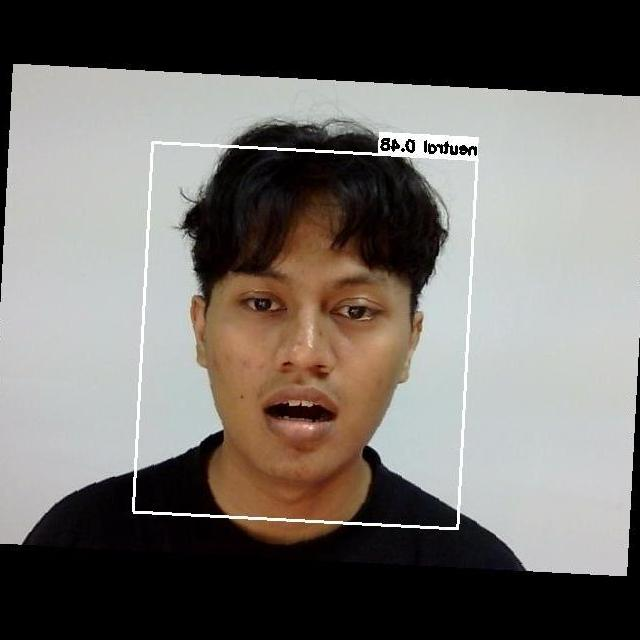Surprised: (208, 255, 395, 456)
